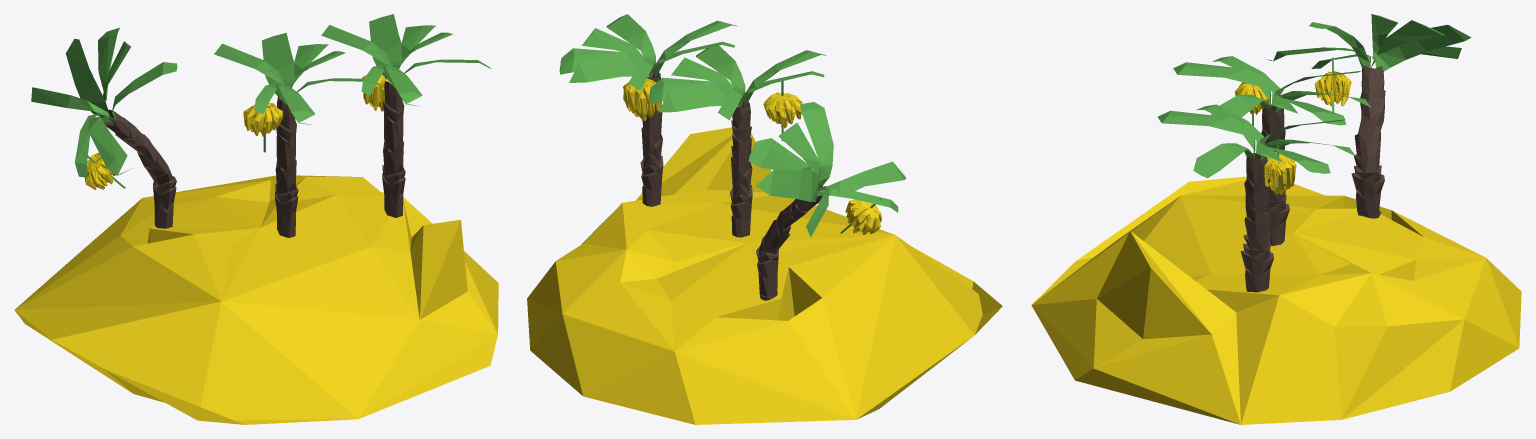
File: insel_tiefer.fbx
3 views of the same model, side by side, from view 1: azimuth 30°, elevation 25°; view 2: azimuth 150°, elevation 25°; view 3: azimuth 270°, elevation 25° (orthographic). The views are drawn at different scales.
Visible parts, largest first — view 1: Landschaft_1, Blätter, Blätter_6, Blätter_4, Stamm_6, Stamm, Stamm_4, Banane_1, Banane_2, Banane; view 2: Landschaft_1, Blätter, Blätter_6, Blätter_4, Stamm_4, Stamm, Stamm_6, Banane_2, Banane_1, Banane; view 3: Landschaft_1, Blätter, Blätter_6, Blätter_4, Stamm, Stamm_6, Stamm_4, Banane, Banane_2.
Boxes of the visible parts, x1,y1,x2,y2 form: Landschaft_1: [14, 175, 498, 424]; Blätter: [31, 27, 177, 177]; Blätter_6: [321, 14, 490, 106]; Blätter_4: [214, 32, 383, 125]; Stamm_6: [382, 76, 405, 217]; Stamm: [104, 109, 176, 228]; Stamm_4: [274, 94, 298, 237]; Banane_1: [243, 102, 283, 136]; Banane_2: [84, 152, 115, 189]; Banane: [362, 74, 395, 111]; Landschaft_1: [527, 127, 1002, 424]; Blätter: [748, 102, 906, 237]; Blätter_6: [559, 14, 736, 90]; Blätter_4: [649, 43, 826, 120]; Stamm_4: [730, 100, 752, 237]; Stamm: [756, 185, 822, 300]; Stamm_6: [640, 71, 663, 206]; Banane_2: [845, 199, 881, 235]; Banane_1: [763, 92, 802, 128]; Banane: [623, 78, 661, 121]; Landschaft_1: [1031, 176, 1521, 424]; Blätter: [1267, 14, 1471, 71]; Blätter_6: [1158, 104, 1355, 178]; Blätter_4: [1173, 56, 1371, 125]; Stamm: [1351, 65, 1385, 218]; Stamm_6: [1240, 153, 1273, 292]; Stamm_4: [1261, 104, 1289, 245]; Banane: [1263, 152, 1296, 195]; Banane_2: [1315, 71, 1351, 106].
Size of the model in its own units: 4001 by 2332 by 3913.
3 materials, 3 textured.
